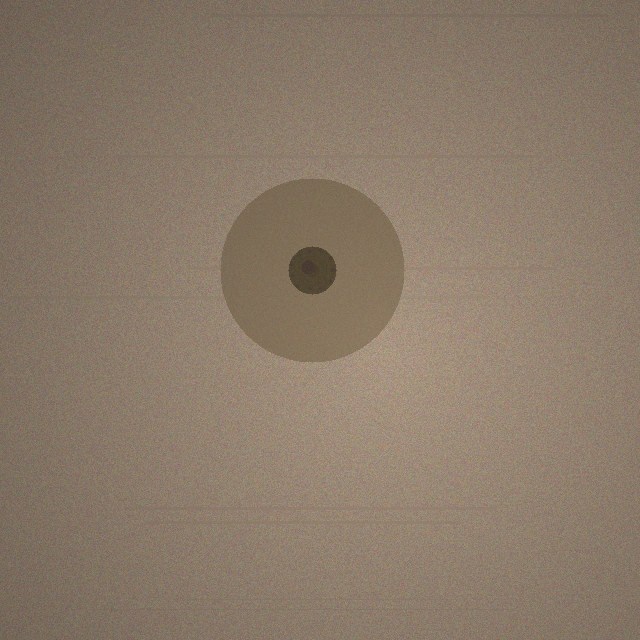cold_weld: (220, 178, 404, 362)
